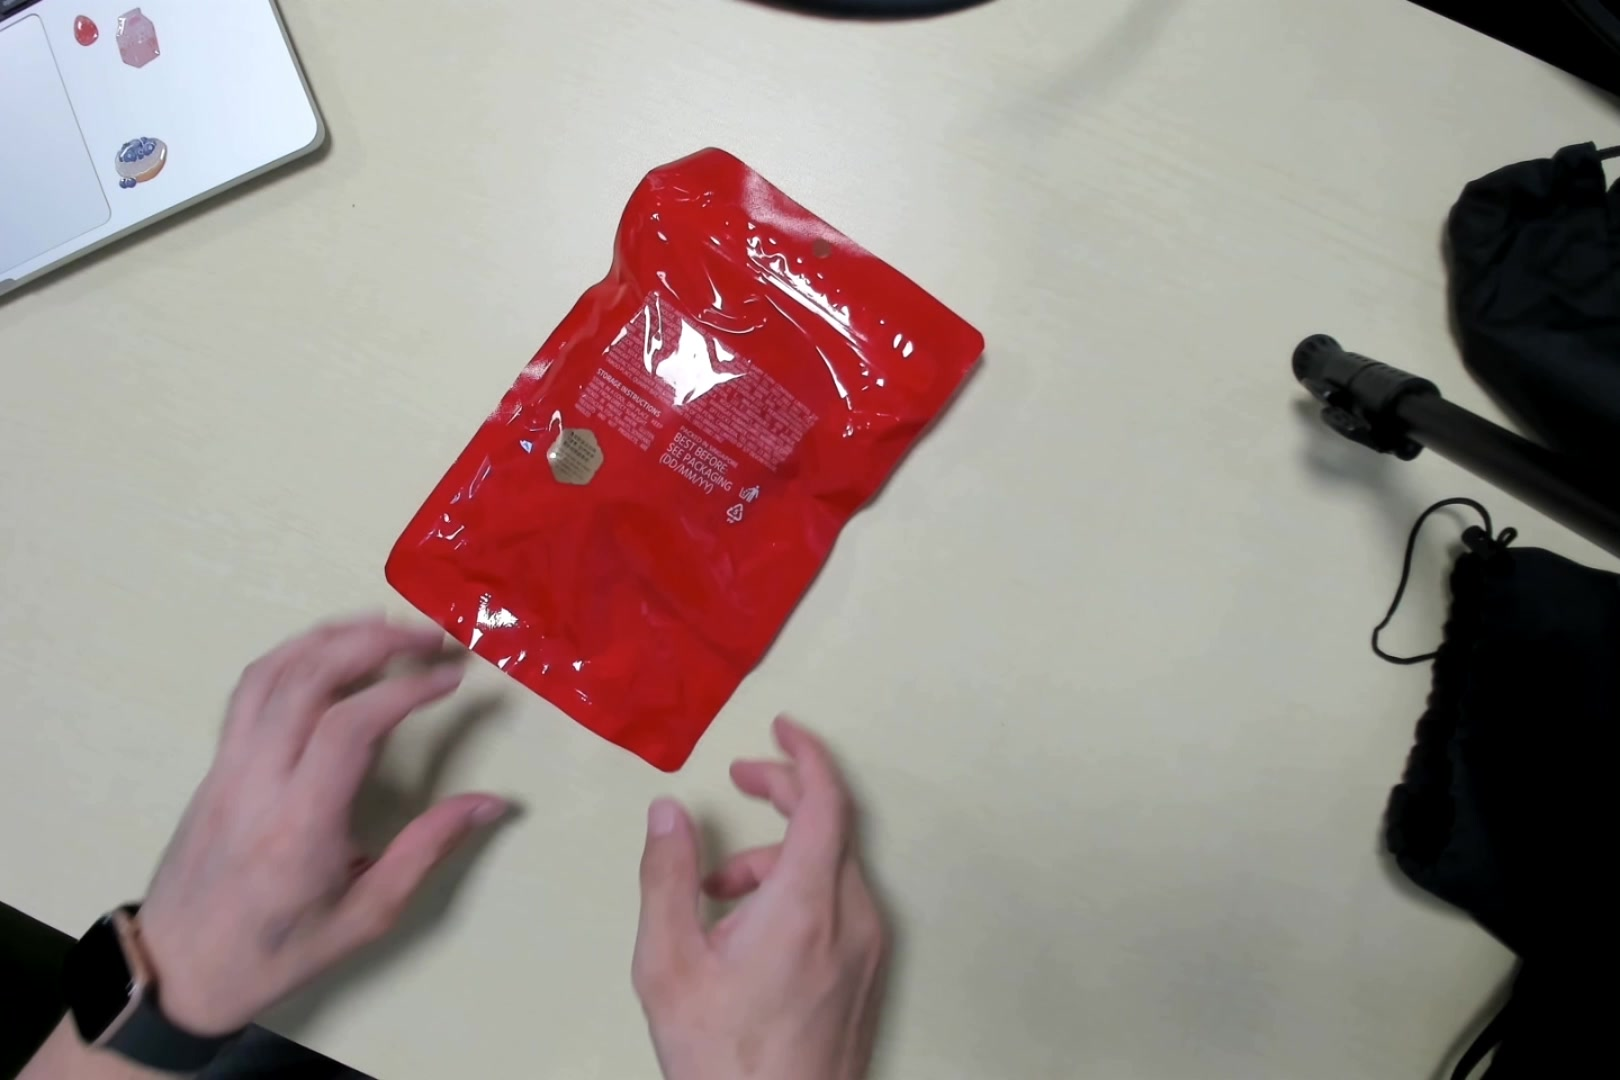DriedMeatSeafood_100-199g_NonHalal_NonHealthy: (394, 147, 964, 750)
